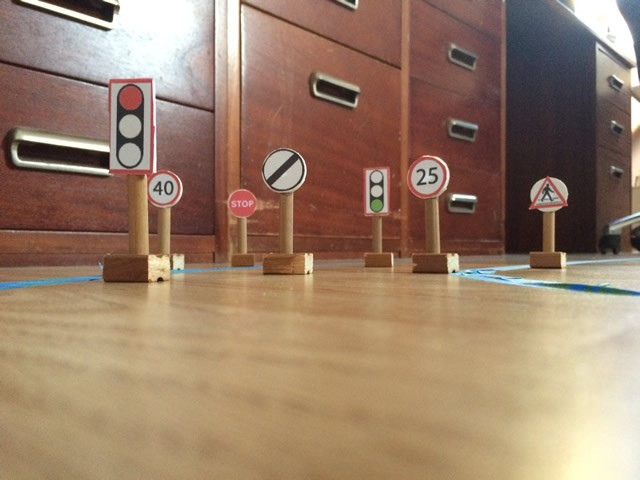Green Traffic Light: (362, 166, 392, 215)
Person Crossing: (525, 177, 569, 212)
Red Traffic Light: (108, 77, 158, 173)
Speed Limit 25: (408, 155, 450, 199)
Speed Limit 60: (261, 147, 307, 193)
Stop Sign: (225, 189, 258, 218)
